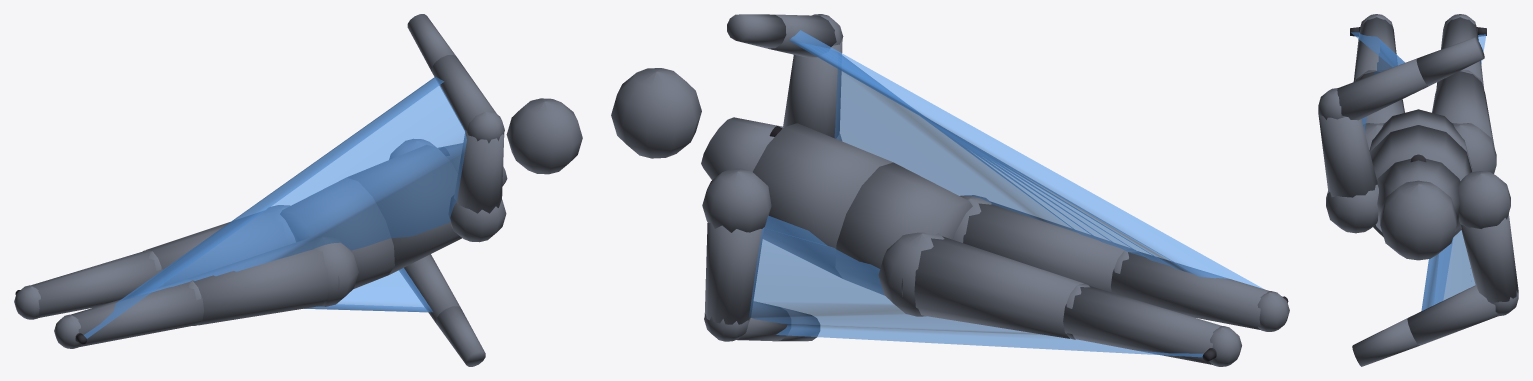
Rendered from manta.glb.
3 views of the same model, side by side, from view 1: azimuth 30°, elevation 25°; view 2: azimuth 150°, elevation 25°; view 3: azimuth 270°, elevation 25° (orthographic). The views are drawn at different scales.
Visible parts, largest first — view 1: MANTA; view 2: MANTA; view 3: MANTA.
Part boxes in pixels (x1,y1,x2,y2): MANTA: (14, 14, 582, 366); MANTA: (611, 14, 1289, 366); MANTA: (1318, 14, 1518, 366).
Size of the model in its own units: 1.88 by 1.04 by 0.5763.
